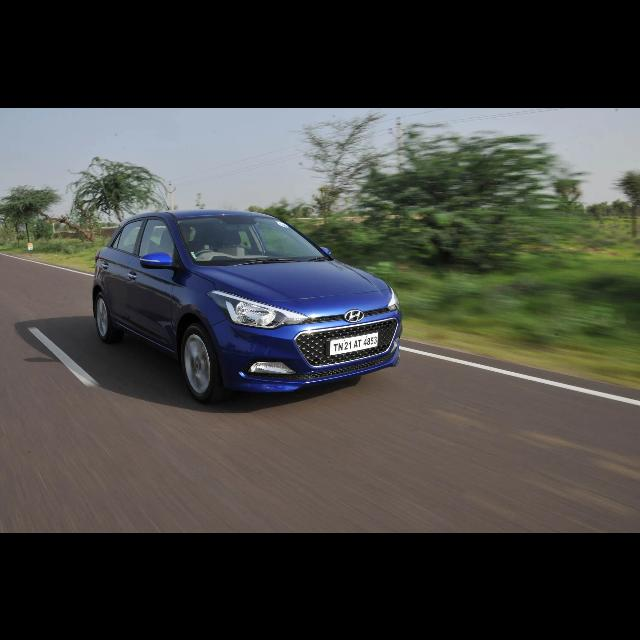vehicles: (89, 208, 404, 406)
